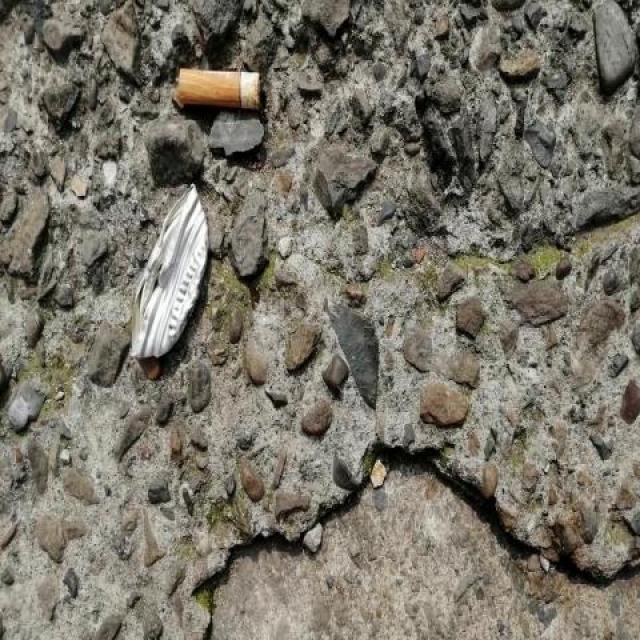non-organic waste: (172, 60, 268, 117)
